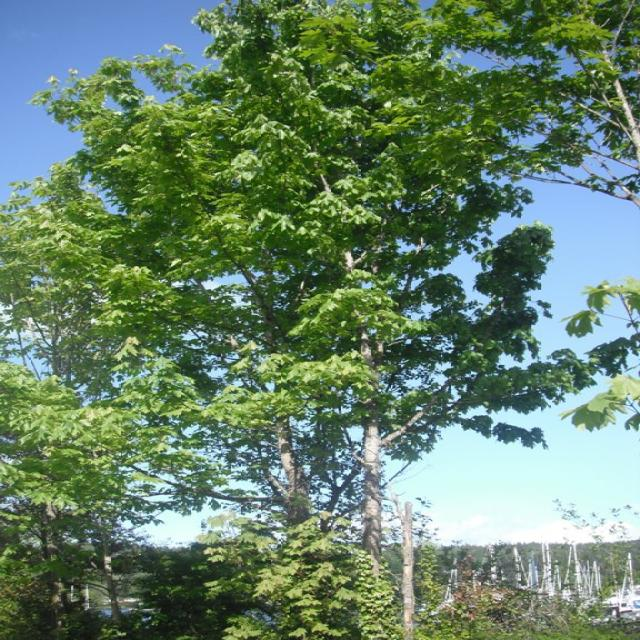Acer macrophyllum: (13, 1, 563, 524)
